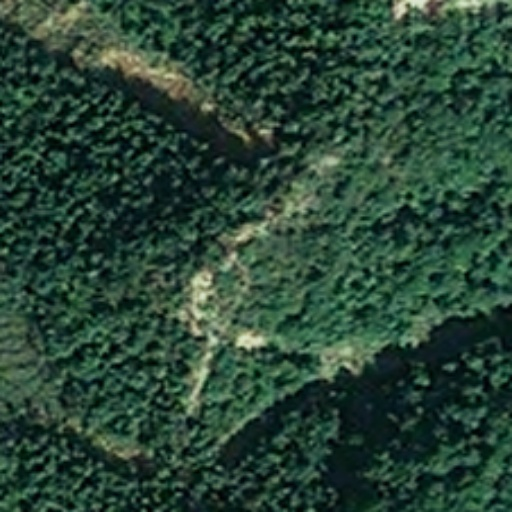landslide: (31, 1, 234, 123), (181, 226, 281, 390)
